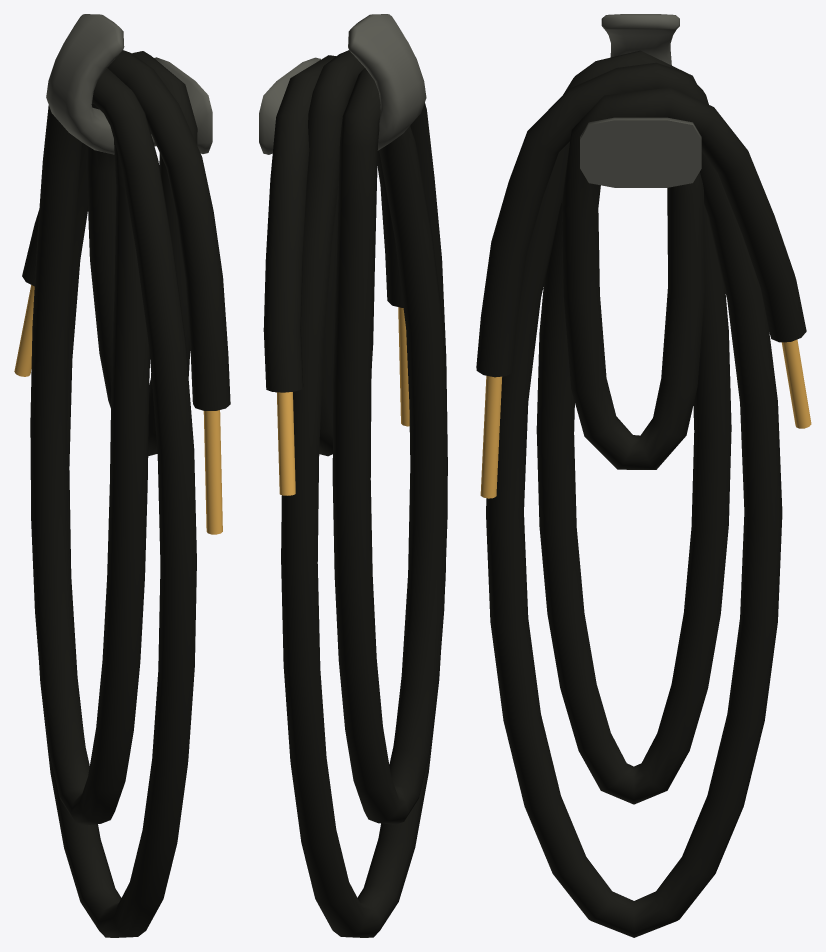
File: EM_137_black_hose.glb
3 renders of one model, left to right at view 1: azimuth 30°, elevation 25°; view 2: azimuth 150°, elevation 25°; view 3: azimuth 270°, elevation 25°, orthographic.
Parts seen in each view (by area): view 1: hose, holder; view 2: hose, holder; view 3: hose, holder.
Boxes of the visible parts, x1,y1,x2,y2 form: hose: (14, 50, 230, 937); holder: (46, 14, 212, 154); hose: (263, 50, 447, 937); holder: (259, 14, 426, 154); hose: (476, 50, 811, 937); holder: (580, 14, 701, 187).
Bounding box in the file's own units: 0.3251 × 2.29 × 0.7557.
